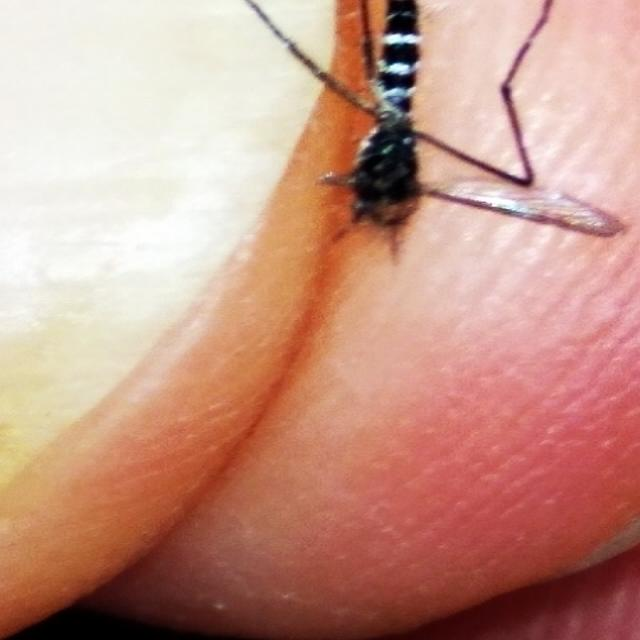albopictus: (194, 4, 636, 278)
